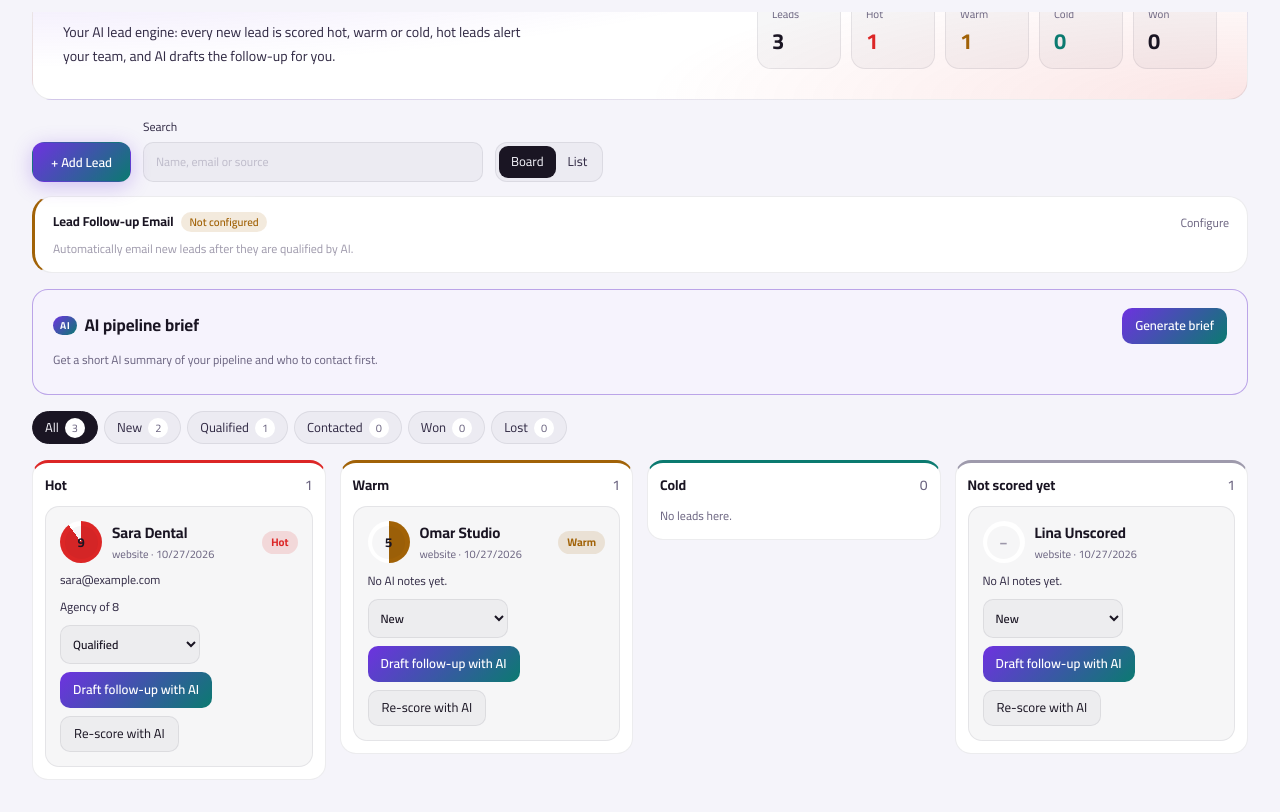
Test: LeadsPage — AI › re-scores a lead with AI and moves it to its new column
(page scrolled)
Click the button "Re-score with AI" below "Omar Studio": (427, 708) [368,690,486,726]
(page scrolled)
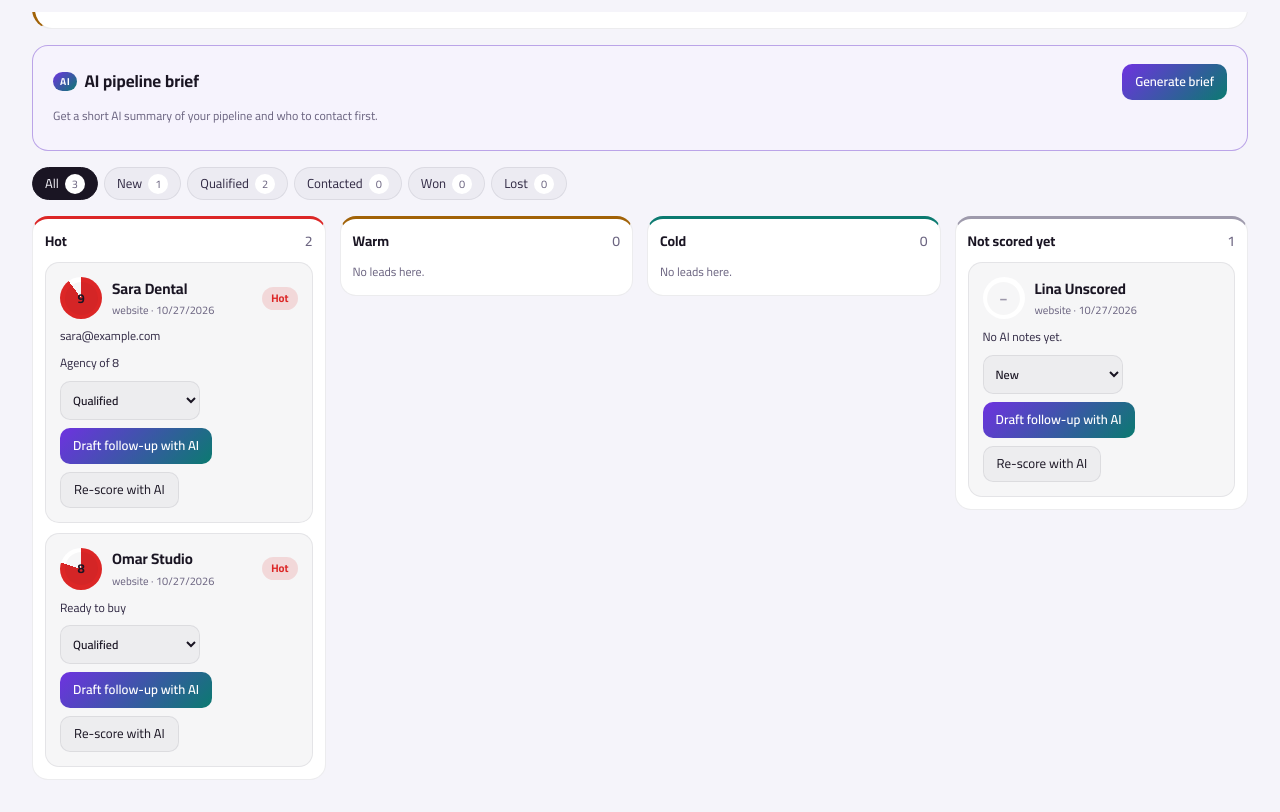
Expected: the heading "Omar Studio" is shown, [112,544,193,573]
Expected: the text "Ready to buy" is shown, [60,596,126,619]
